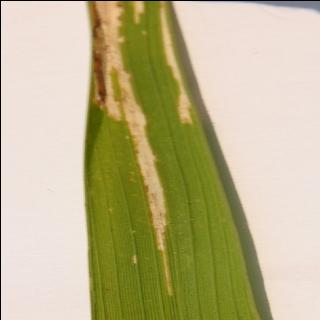Hawar-Daun: (82, 0, 154, 218), (156, 3, 188, 108)
